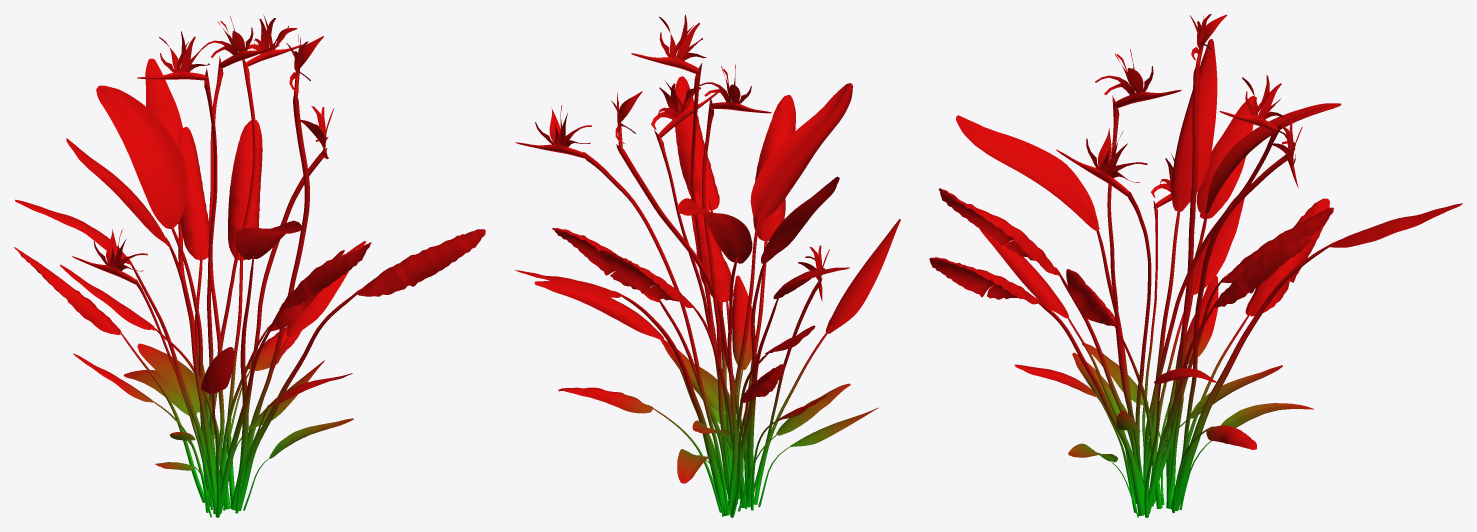
Rendered from Var7_LOD0.fbx.
3 views of the same model, side by side, from view 1: azimuth 30°, elevation 25°; view 2: azimuth 150°, elevation 25°; view 3: azimuth 270°, elevation 25° (orthographic). The views are drawn at different scales.
Parts seen in each view (by area): view 1: _0mpe_Var7_LOD0; view 2: _0mpe_Var7_LOD0; view 3: _0mpe_Var7_LOD0.
Part boxes in pixels (x1,y1,x2,y2): _0mpe_Var7_LOD0: (14, 14, 485, 517); _0mpe_Var7_LOD0: (515, 14, 900, 517); _0mpe_Var7_LOD0: (929, 14, 1462, 517).
Bounding box in the file's own units: 133 × 178 × 175.
